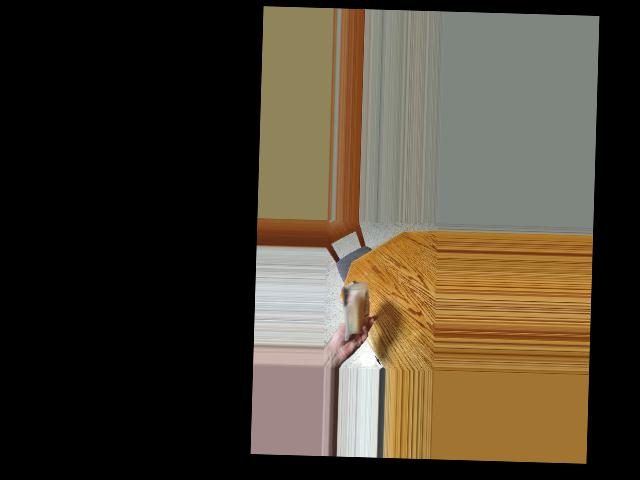cheese: (336, 282, 376, 336)
